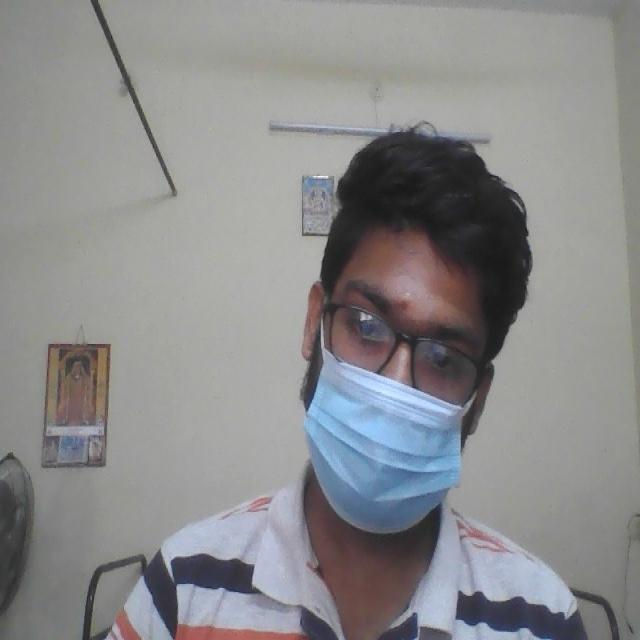Focused: (312, 277, 488, 489)
